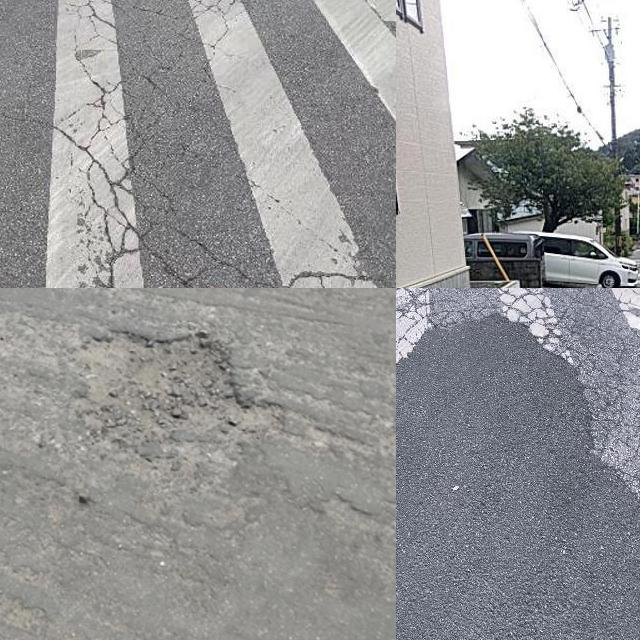Lubang: (69, 333, 240, 445)
Sambungan: (396, 315, 640, 640)
